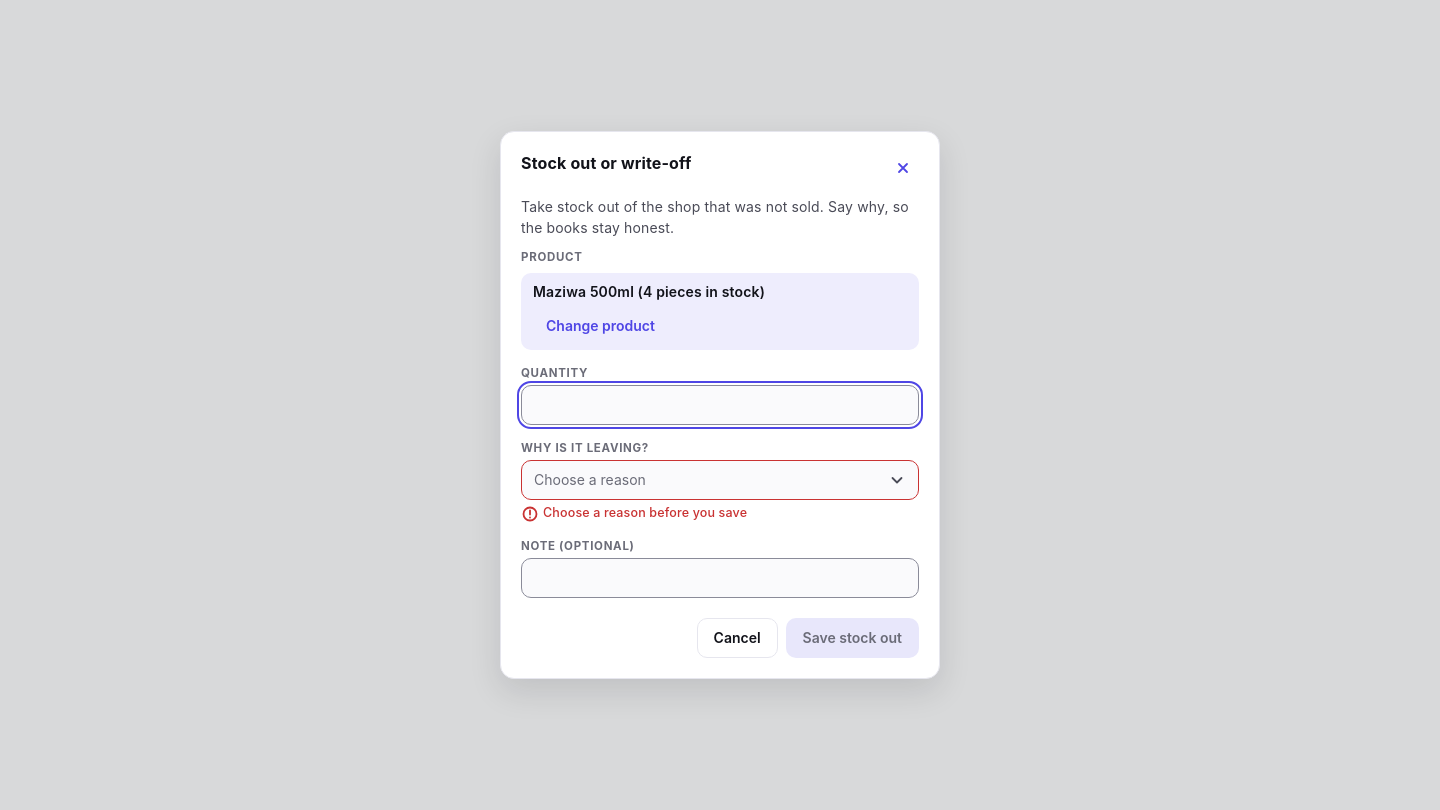
Stock out or write-off › the reason Other also needs a note before Save is on
Expected: the dialog is shown, [500,131,940,679]
In the field labelled "Quantity": coordinates (720, 405) [522,386,918,424], type "1"
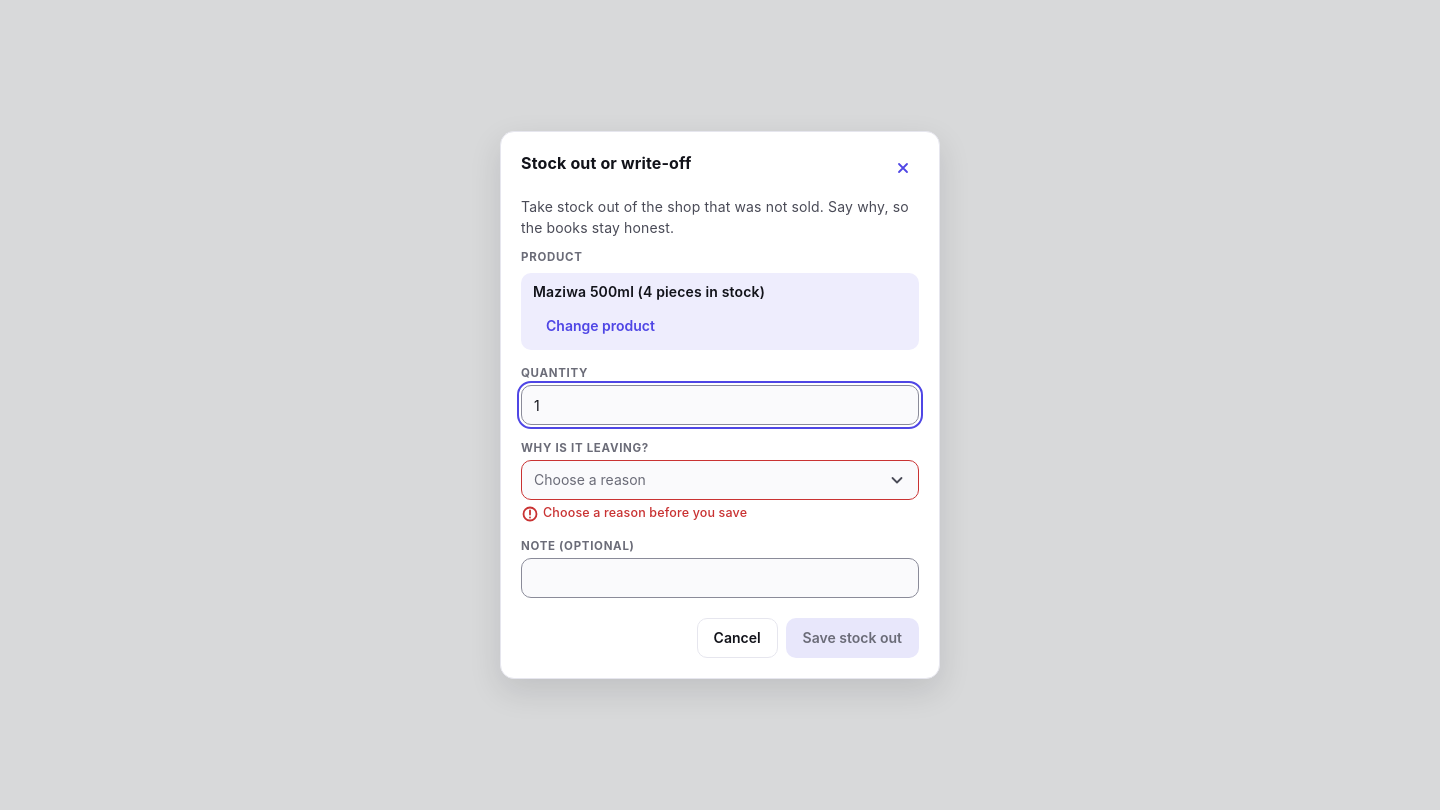
Click the dropdown named "Why is it leaving": coordinates (590, 480) [521,460,919,500]
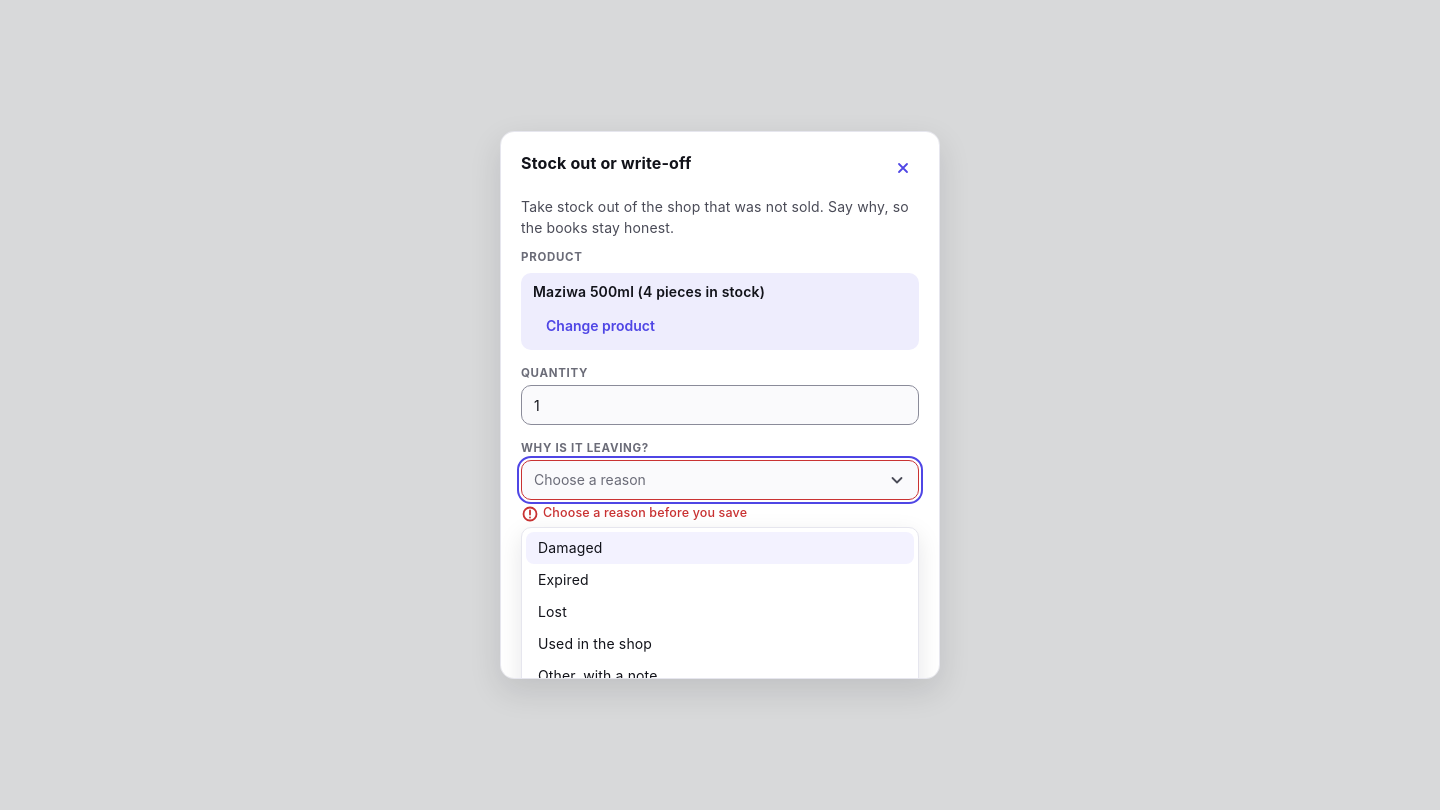
Click the option "Other, with a note": coordinates (598, 676) [538,667,658,684]
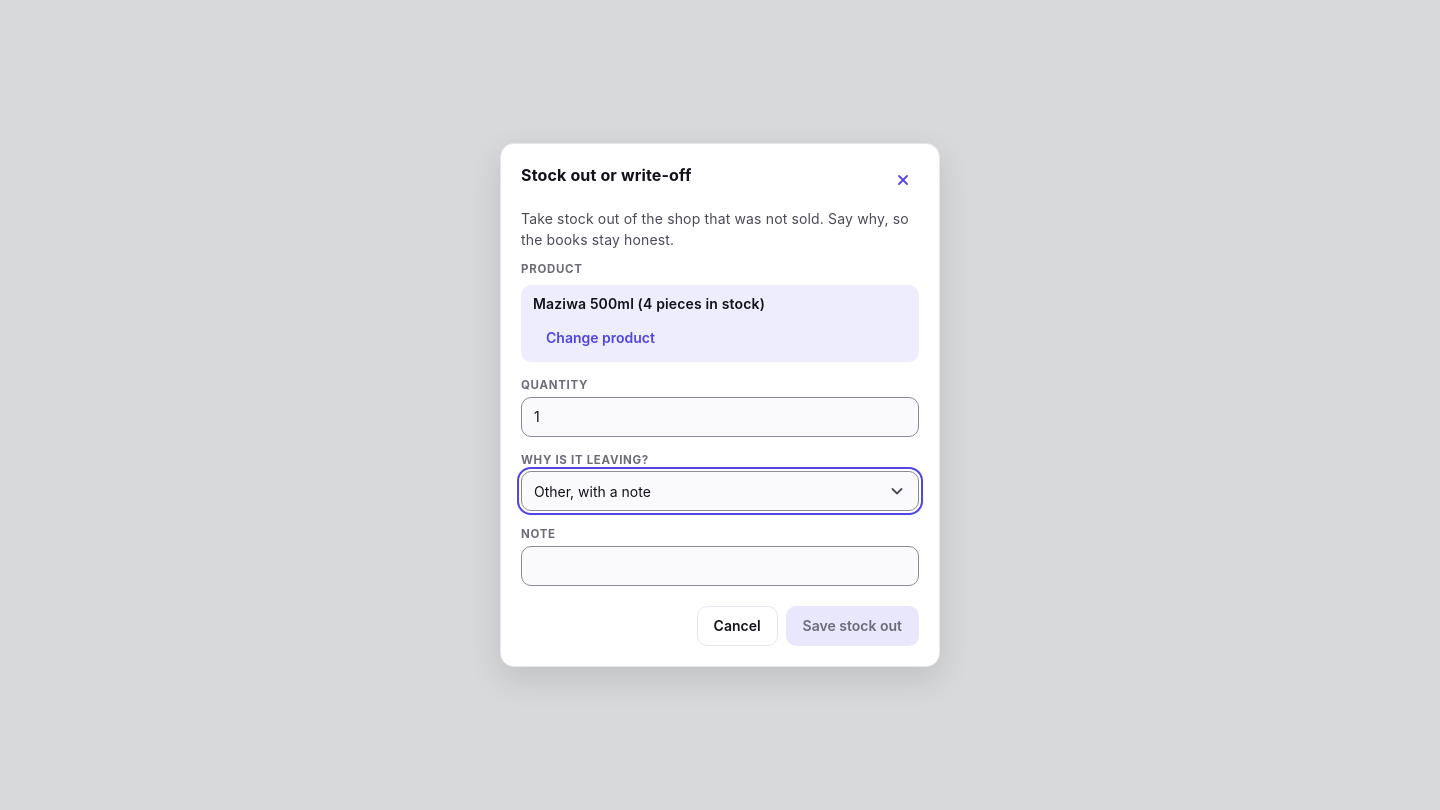
Expected: the button "Save stock out" is disabled, [786,606,919,646]
In the field labelled "Note": coordinates (720, 566) [522,547,918,585], type "x"
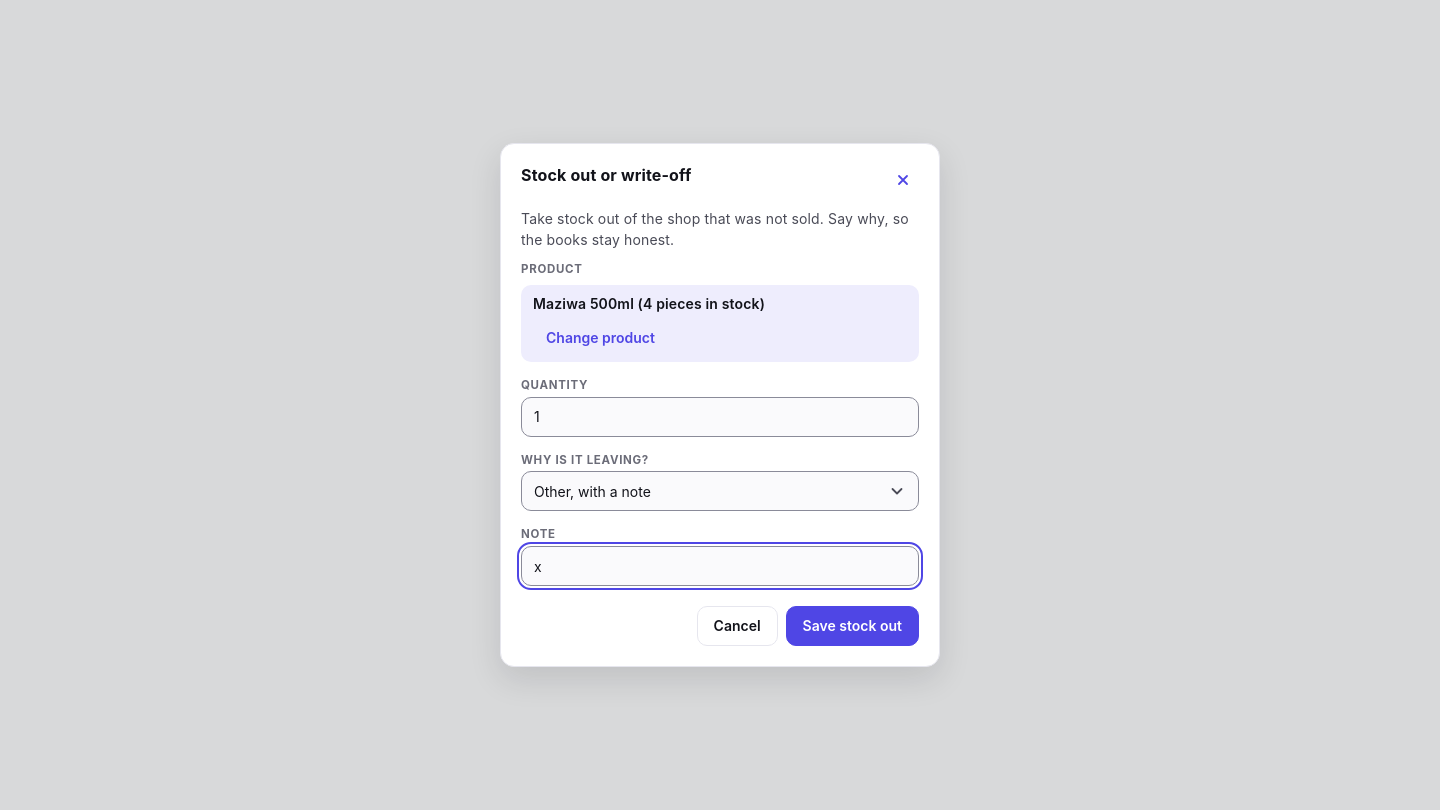
Clear the field labelled "Note": coordinates (720, 566) [522,547,918,585]
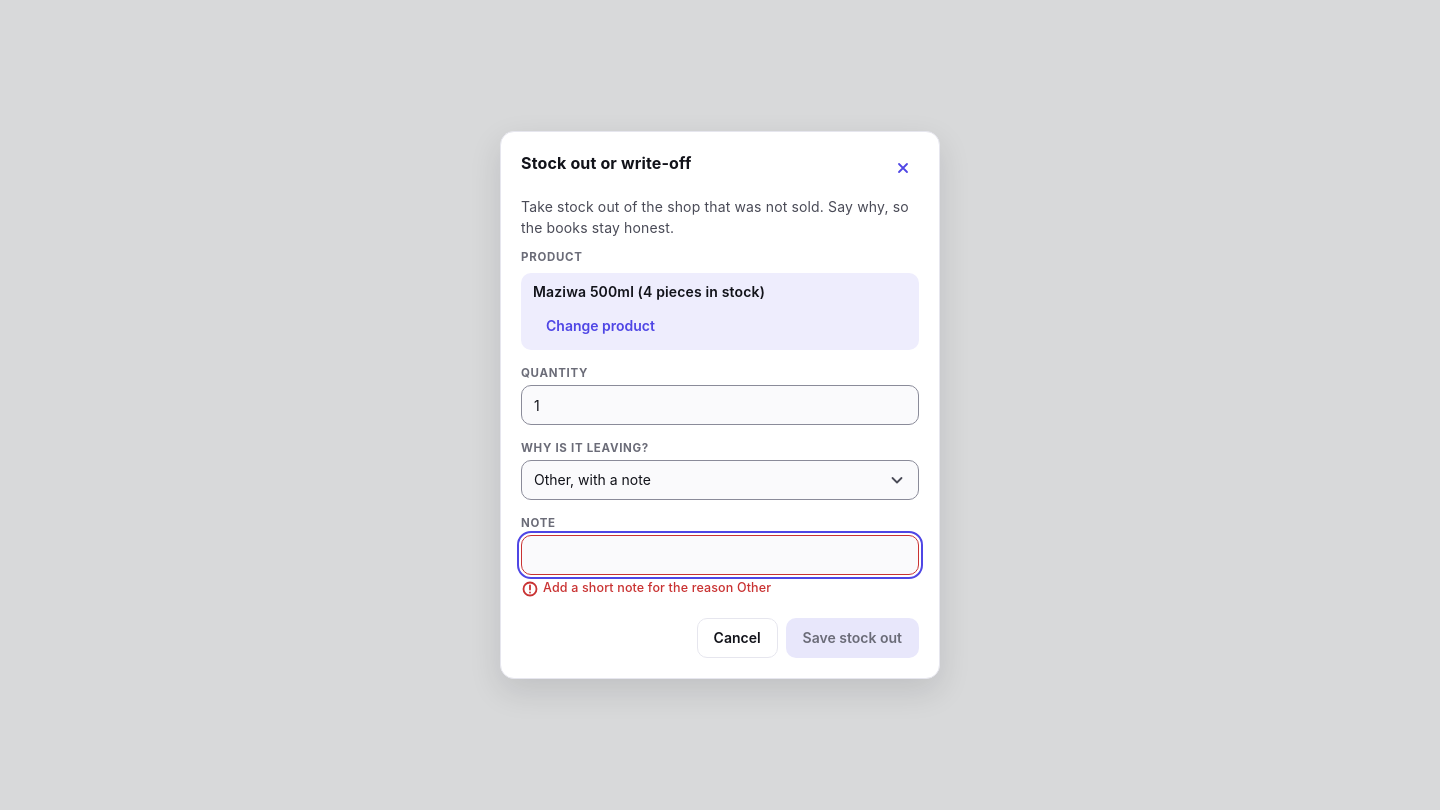
In the field labelled "Note": coordinates (720, 555) [522,536,918,574], type "a gift to the school"
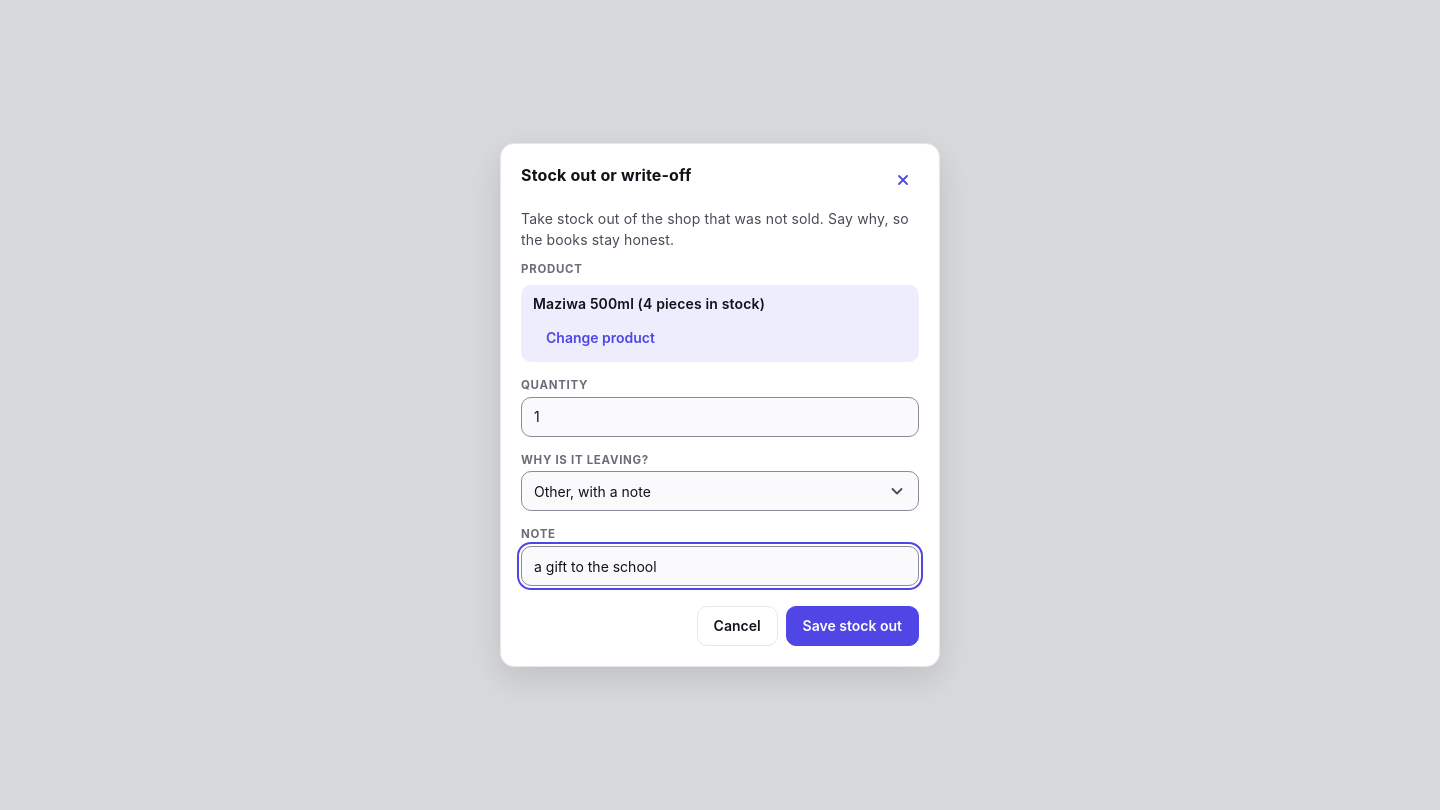
Expected: the button "Save stock out" is enabled, [786,606,919,646]
